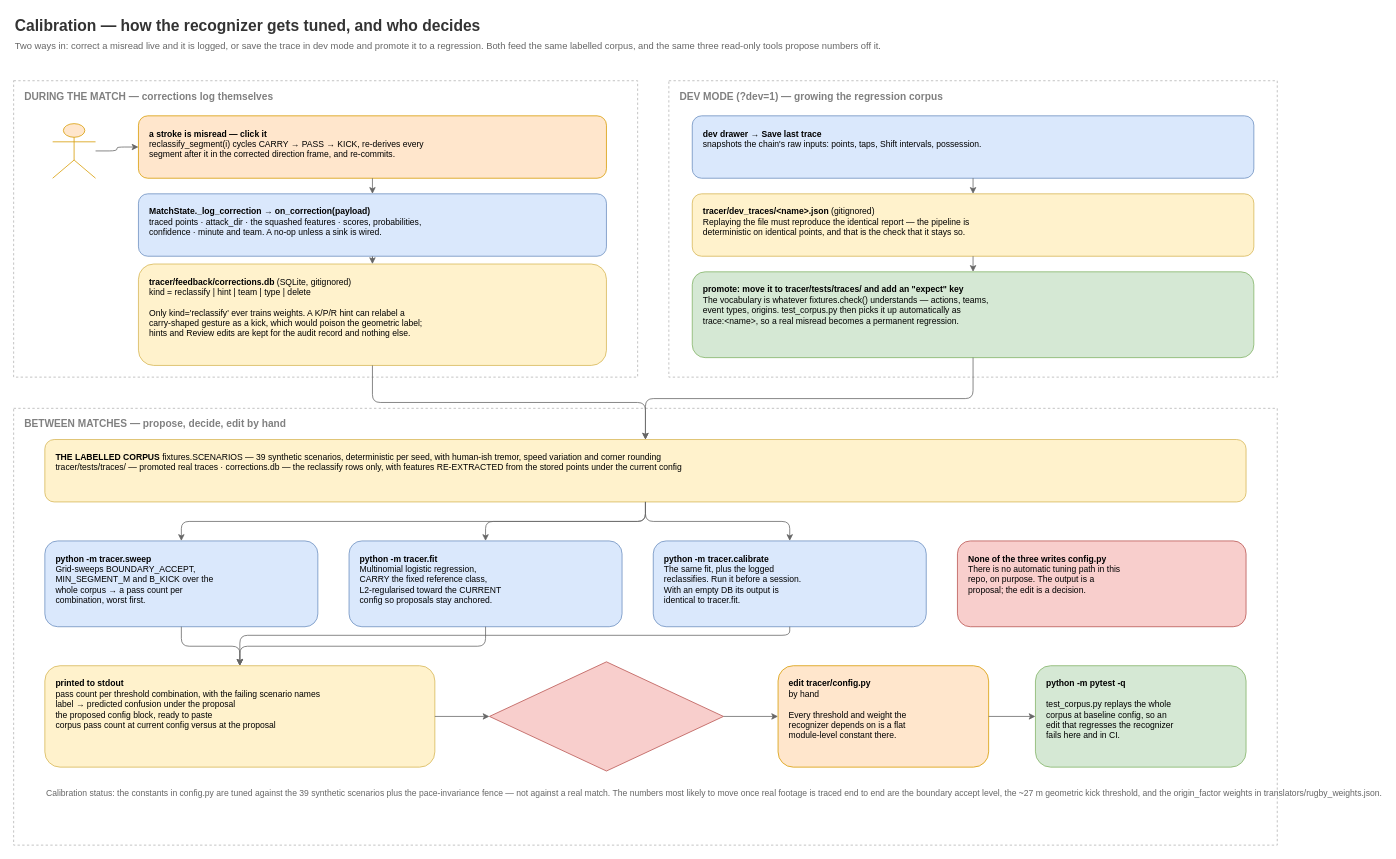
The diagram is 1396 pixels wide and 859 high, and some of its shapes have lost their labels. The centre of each missing label's shape, as x and y in pixels:
a human reads the numbers unconvinced → trace more, promote more, run again: the point at 606,716
Analyst: the point at 74,150
